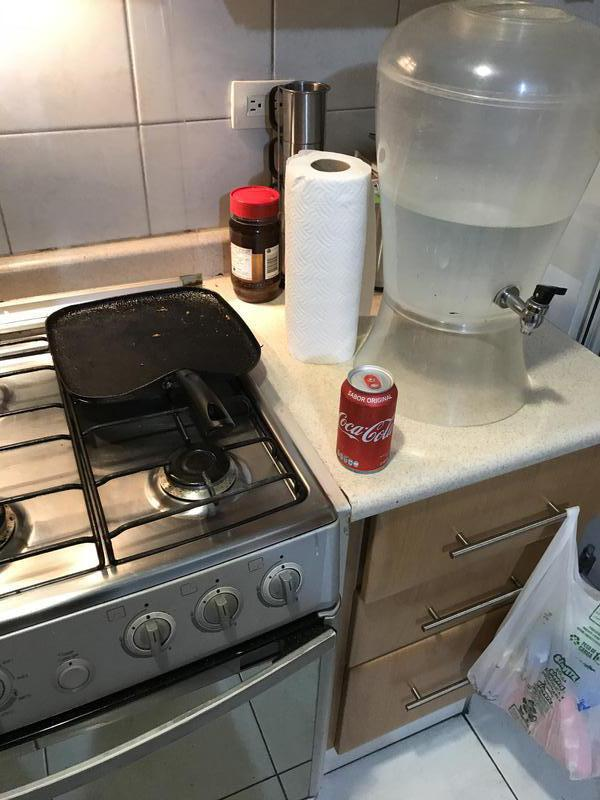coca_cola: (336, 367, 391, 473)
